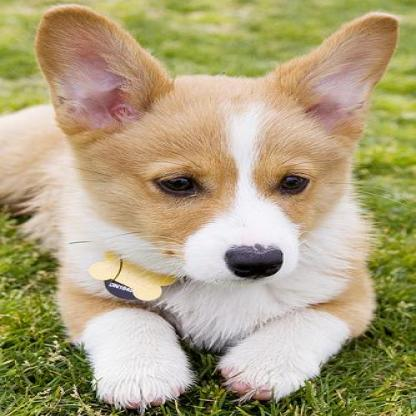Pembroke: (1, 3, 399, 404)
